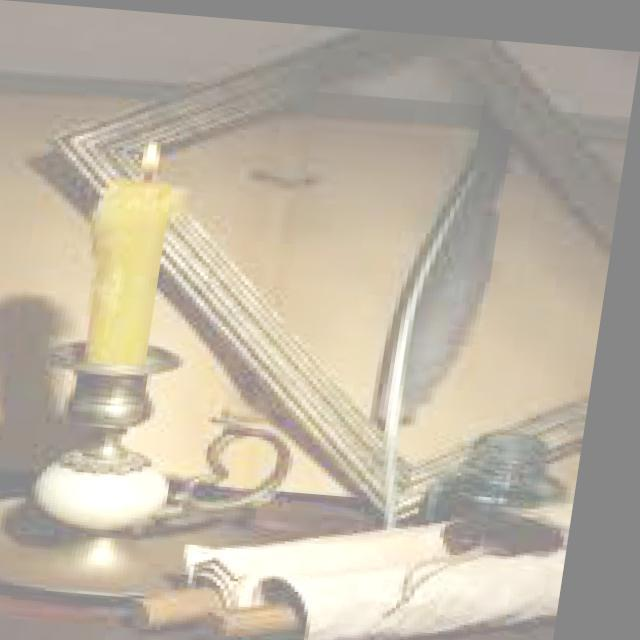Fire: (120, 126, 175, 181)
